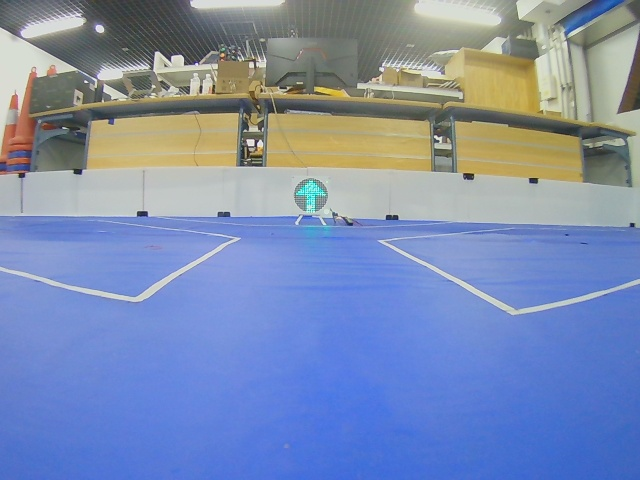straight_green: (294, 178, 328, 214)
